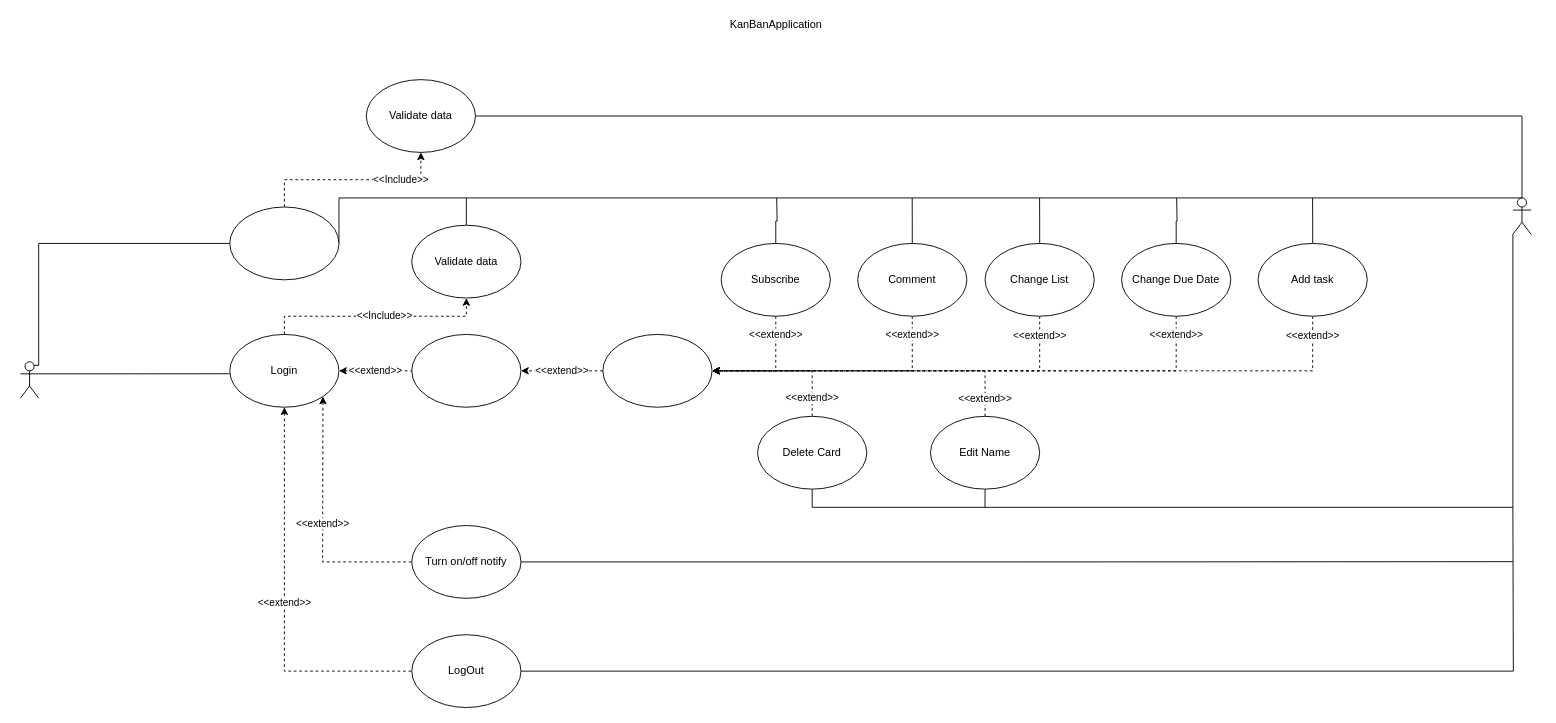
Some shapes in this 1556 by 723 pixel diagram are drawn without their labels. The shapes that lost their labels are listed below. From the top down, each one's box as (x1, y1, x2, y2) in pixels, then its label:
(1512, 197, 1531, 234): Service
(229, 206, 339, 280): Register
(20, 361, 39, 398): Client
(411, 334, 521, 407): Create List
(602, 334, 712, 407): Create/Add Card
